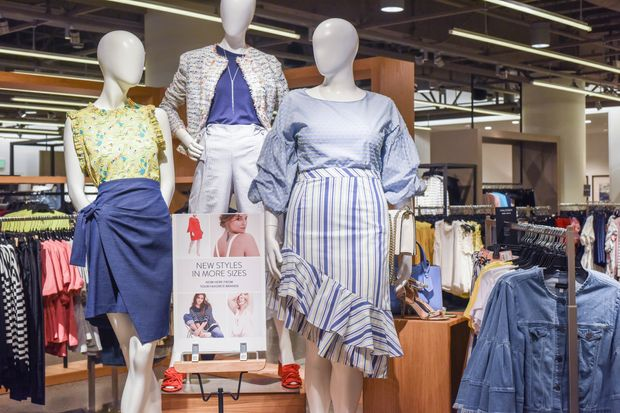person-like: (247, 12, 424, 413), (57, 25, 182, 413), (159, 1, 289, 215)
